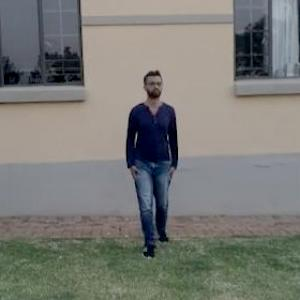follow: (118, 56, 187, 276)
